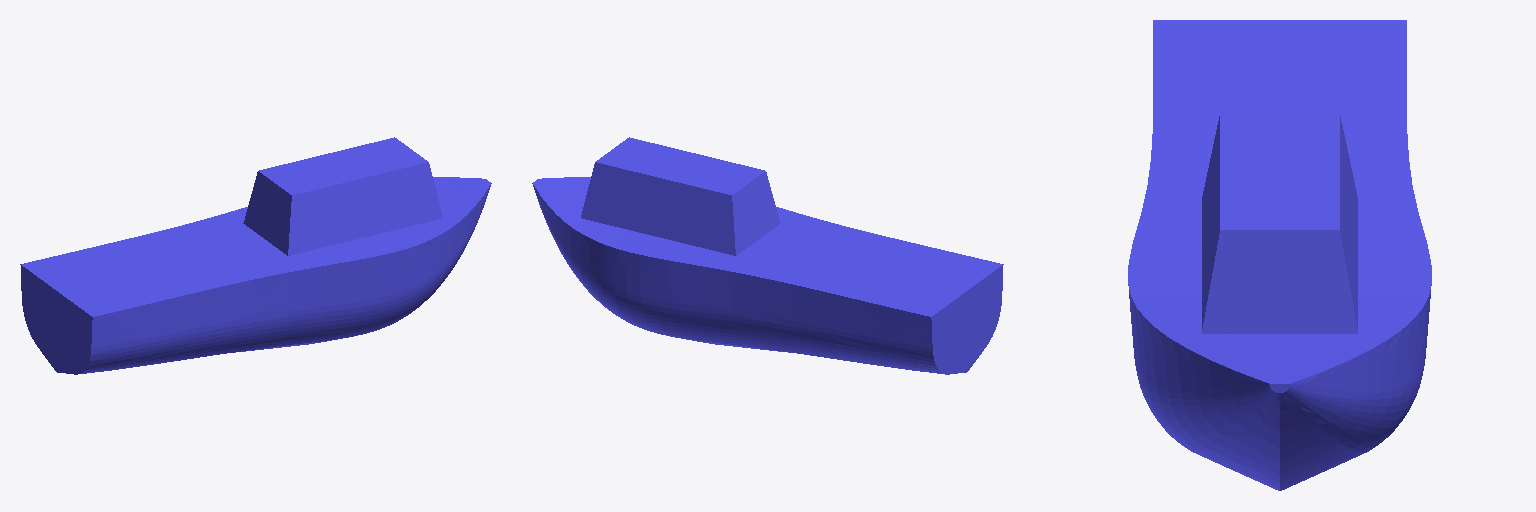
URDF robot description (asv):
<?xml version="1.0"?>
<robot name="asv">
  <link name="asv">
    <visual>
      <origin rpy="1.570796326 0.0 1.570796326" xyz="-4.15 -1.6 -1.5"/>
      <geometry>
        <mesh filename="package://asv_simulator/meshes/viknes.STL" scale="0.001 0.001 0.001"/>
     </geometry>
      <material name="white">
        <color rgba="0.4 0.4 1 1"/>
      </material>
    </visual>
  </link>
</robot>

--- Facts derived from the render (not from the file) ---
The picture shows the robot from 3 angles, left to right: view 1: azimuth 30°, elevation 25°; view 2: azimuth 150°, elevation 25°; view 3: azimuth 270°, elevation 25°; orthographic projection.
Model asv with 1 links and 0 joints (none), rooted at asv, posed all joints at 0.
Visible links, largest first — view 1: asv; view 2: asv; view 3: asv.
Link boxes in pixels (left/top/right/bottom): asv: left=20, top=137, right=491, bottom=374; asv: left=532, top=137, right=1003, bottom=374; asv: left=1128, top=20, right=1431, bottom=490.
Bounding box of the posed robot: 8.3 × 2.88 × 3.14 m (x, y, z).
1 mesh visuals loaded from 1 distinct referenced files (1 binary STL).
